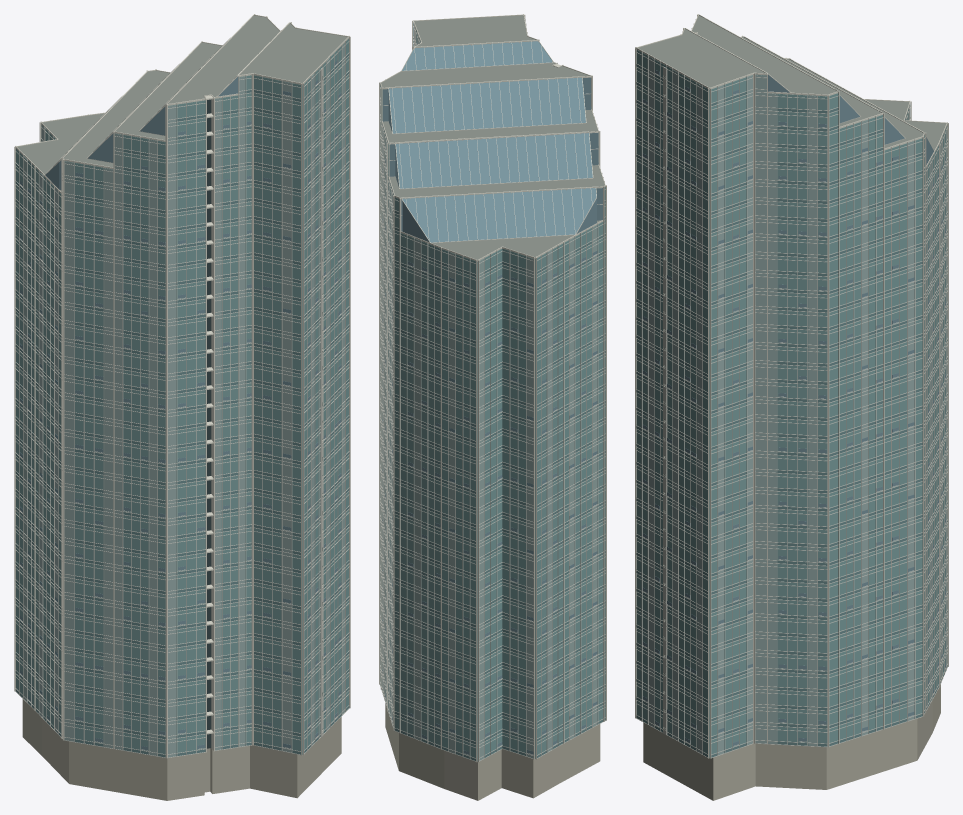
File: bespoke-lotte-castle-empire-102.glb
3 views of the same model, side by side, from view 1: azimuth 30°, elevation 25°; view 2: azimuth 150°, elevation 25°; view 3: azimuth 270°, elevation 25° (orthographic). The views are drawn at different scales.
Visible parts, largest first — view 1: 102_e16_lower_glass, 102_e16_pale_pane_stripes, 102_e5_lower_glass, 102_e6_lower_glass, 102_e0_lower_glass, 102_ground_support_inside_shared_plinth, 102_e4_lower_glass, 102_e16_floor_mullions, 102_e6_vertical_mullions, 102_e4_pale_pane_stripes, 102_e15_lower_glass, 102_e16_vertical_mullions (+48 smaller); view 2: 102_photo_triangular_glazed_roof_connections, 102_e10_lower_glass, 102_e15_lower_glass, 102_e11_lower_glass, 102_e13_lower_glass, 102_e14_lower_glass, 102_ground_support_inside_shared_plinth, 102_e12_lower_glass, 102_e9_vertical_mullions, 102_e15_pale_pane_stripes, 102_e10_floor_mullions, 102_e15_floor_mullions (+48 smaller); view 3: 102_e9_lower_glass, 102_e6_lower_glass, 102_e8_lower_glass, 102_e8_pale_pane_stripes, 102_e7_lower_glass, 102_ground_support_inside_shared_plinth, 102_e9_floor_mullions, 102_e6_pale_pane_stripes, 102_e6_floor_mullions, 102_e8_floor_mullions, 102_e9_pale_pane_stripes, 102_e7_pale_pane_stripes (+38 smaller).
Boxes of the visible parts, x1,y1,x2,y2 form: 102_e16_lower_glass: (64,133,165,754); 102_e16_pale_pane_stripes: (65,134,157,755); 102_e5_lower_glass: (254,75,300,751); 102_e6_lower_glass: (302,39,348,754); 102_e0_lower_glass: (168,100,205,752); 102_ground_support_inside_shared_plinth: (22,699,341,800); 102_e4_lower_glass: (215,75,251,745); 102_e16_floor_mullions: (64,136,165,757); 102_e6_vertical_mullions: (303,40,345,754); 102_e4_pale_pane_stripes: (215,76,245,750); 102_e15_lower_glass: (35,168,61,733); 102_e16_vertical_mullions: (74,133,157,756); 102_photo_triangular_glazed_roof_connections: (389,41,596,242); 102_e10_lower_glass: (394,197,440,745); 102_e15_lower_glass: (563,187,605,740); 102_e11_lower_glass: (442,249,475,758); 102_e13_lower_glass: (502,248,532,753); 102_e14_lower_glass: (537,243,562,754); 102_ground_support_inside_shared_plinth: (385,703,600,800); 102_e12_lower_glass: (480,249,502,755); 102_e9_vertical_mullions: (380,83,392,726); 102_e15_pale_pane_stripes: (569,225,597,739); 102_e10_floor_mullions: (394,199,440,748); 102_e15_floor_mullions: (564,189,605,742); 102_e9_lower_glass: (829,93,922,742); 102_e6_lower_glass: (636,50,707,753); 102_e8_lower_glass: (758,75,827,743); 102_e8_pale_pane_stripes: (755,75,817,746); 102_e7_lower_glass: (711,75,752,754); 102_ground_support_inside_shared_plinth: (643,684,940,800); 102_e9_floor_mullions: (829,95,922,746); 102_e6_pale_pane_stripes: (648,57,702,753); 102_e6_floor_mullions: (636,52,707,757); 102_e8_floor_mullions: (755,77,827,747); 102_e9_pale_pane_stripes: (861,120,914,735); 102_e7_pale_pane_stripes: (718,75,752,755).
Bounding box in the file's own units: 45.86 × 126 × 50.13.
